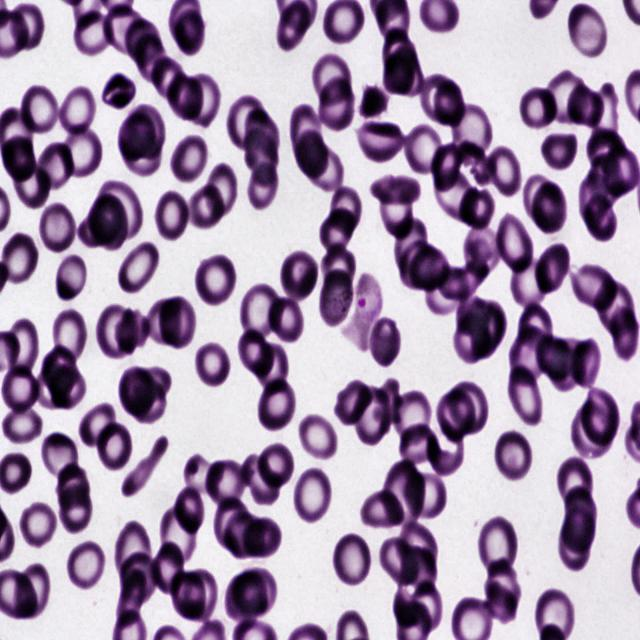red blood cell: (381, 457, 426, 522), (54, 120, 104, 178), (444, 103, 493, 162), (122, 436, 170, 496), (111, 522, 153, 586), (98, 179, 143, 238), (572, 398, 614, 460), (116, 240, 162, 296), (419, 420, 464, 477), (506, 363, 546, 427), (494, 212, 534, 275), (256, 372, 297, 433), (567, 0, 608, 61), (194, 252, 237, 310), (240, 284, 286, 338), (545, 70, 591, 124), (432, 168, 478, 222), (292, 464, 332, 526), (510, 327, 552, 386), (225, 92, 267, 150), (390, 390, 432, 447), (332, 531, 373, 589), (18, 84, 62, 138), (448, 378, 488, 437), (467, 301, 508, 358), (478, 516, 518, 574), (554, 456, 594, 514), (357, 116, 406, 163), (582, 387, 621, 446), (424, 267, 470, 317), (40, 428, 80, 485), (88, 194, 128, 251), (484, 561, 520, 624), (160, 506, 198, 565), (56, 85, 96, 141), (494, 428, 534, 484), (596, 279, 635, 336), (572, 264, 617, 313), (170, 130, 210, 185), (38, 200, 77, 256), (0, 232, 39, 288), (436, 388, 476, 442), (120, 550, 160, 604), (240, 454, 280, 508), (510, 256, 550, 309), (14, 562, 51, 619), (296, 412, 338, 462), (396, 522, 438, 572), (382, 46, 424, 96), (440, 256, 490, 298), (95, 306, 136, 357), (117, 111, 158, 162), (118, 362, 156, 417), (6, 316, 42, 374), (18, 500, 58, 552), (313, 54, 352, 107), (214, 497, 252, 551), (223, 574, 263, 625), (531, 181, 568, 236), (184, 74, 221, 129), (70, 9, 112, 57), (320, 76, 356, 132), (405, 473, 446, 522), (36, 144, 76, 194), (1, 130, 36, 187), (530, 246, 569, 297), (251, 342, 290, 393), (3, 363, 42, 414), (154, 188, 190, 243), (160, 295, 196, 350), (398, 423, 442, 468), (408, 246, 451, 292), (234, 567, 276, 614), (393, 218, 427, 276), (279, 252, 320, 300), (224, 510, 263, 560), (399, 239, 437, 290), (590, 151, 624, 208), (383, 27, 418, 82), (244, 128, 279, 183), (304, 142, 344, 190), (172, 570, 208, 623), (130, 102, 164, 158), (266, 292, 304, 342), (78, 400, 116, 450), (536, 589, 574, 639), (400, 546, 438, 596), (552, 338, 587, 392), (120, 133, 162, 178), (602, 145, 639, 196), (48, 365, 88, 412), (52, 308, 88, 360), (380, 184, 414, 239), (334, 377, 372, 426), (290, 102, 322, 160), (40, 344, 77, 394), (405, 124, 445, 170), (67, 541, 105, 589), (454, 316, 492, 364), (588, 126, 626, 174), (236, 330, 274, 378), (464, 225, 502, 273), (578, 170, 610, 227), (518, 305, 555, 354), (523, 173, 559, 223), (184, 451, 224, 496), (536, 335, 574, 382), (487, 145, 522, 196), (185, 568, 218, 622), (152, 542, 182, 601), (320, 269, 350, 328), (206, 462, 248, 504), (0, 400, 41, 443), (356, 388, 388, 443), (379, 539, 418, 584), (15, 161, 50, 211), (257, 442, 295, 488), (60, 484, 94, 535), (296, 129, 330, 180), (412, 582, 444, 636), (144, 299, 180, 347), (420, 74, 456, 122), (10, 3, 46, 51), (361, 490, 404, 530), (538, 130, 578, 173), (106, 4, 141, 53), (56, 252, 90, 302), (136, 33, 168, 86), (568, 81, 604, 128), (562, 507, 598, 554), (242, 517, 282, 559), (134, 365, 174, 407), (245, 107, 280, 155), (517, 88, 556, 131), (275, 1, 309, 50), (98, 422, 132, 471), (318, 206, 355, 251), (558, 520, 591, 570), (126, 18, 161, 65), (371, 175, 424, 206), (171, 71, 203, 122), (434, 78, 466, 129), (195, 341, 229, 389), (584, 196, 618, 244), (322, 248, 358, 293), (130, 379, 166, 424), (565, 488, 597, 538), (191, 184, 224, 232), (369, 318, 402, 366), (431, 142, 464, 190), (172, 485, 204, 534), (115, 306, 149, 352), (150, 56, 185, 100), (118, 572, 145, 629), (173, 9, 205, 57), (56, 464, 90, 509), (572, 339, 602, 390), (611, 305, 638, 361), (248, 163, 280, 210), (331, 188, 363, 233), (209, 163, 236, 216), (459, 186, 493, 228), (456, 298, 491, 338), (100, 74, 136, 112), (77, 214, 112, 248), (358, 85, 390, 122)
ring: (341, 272, 384, 352)
